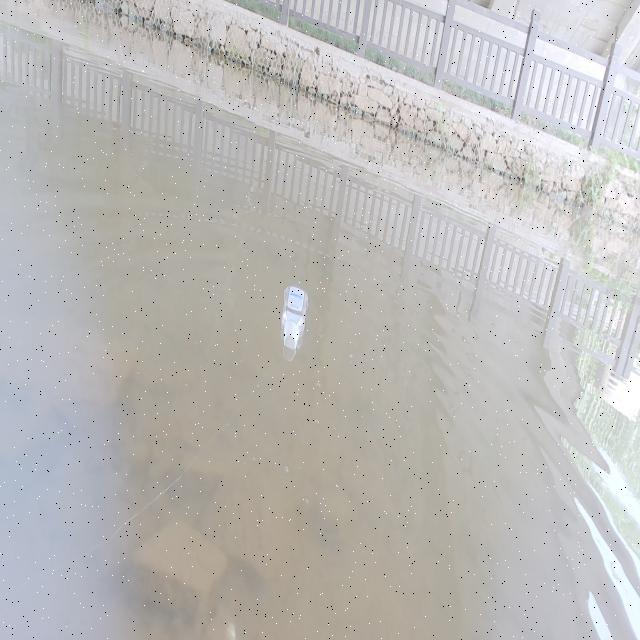Bottle: (278, 281, 310, 353)
